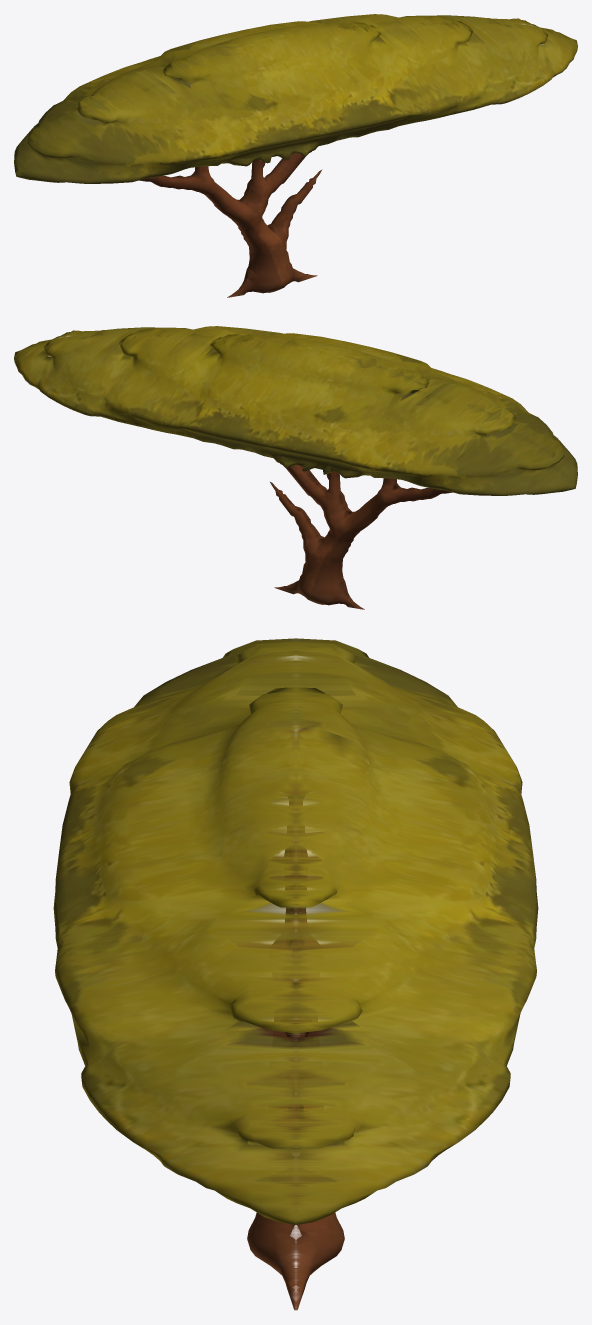
The model's file is 23_trees_b_r00_c00.glb.
3 renders of one model, top to bottom at view 1: azimuth 30°, elevation 25°; view 2: azimuth 150°, elevation 25°; view 3: azimuth 270°, elevation 25°, orthographic. The views are drawn at different scales.
Visible parts, largest first — view 1: 23_trees_b_r00_c00; view 2: 23_trees_b_r00_c00; view 3: 23_trees_b_r00_c00.
Part boxes in pixels (x1=…): 23_trees_b_r00_c00: x1=14, y1=14, x2=577, y2=297; 23_trees_b_r00_c00: x1=14, y1=326, x2=577, y2=609; 23_trees_b_r00_c00: x1=53, y1=638, x2=538, y2=1310.
Size of the model in its own units: 13.11 by 5.58 by 4.91.
1 material, 1 textured.
